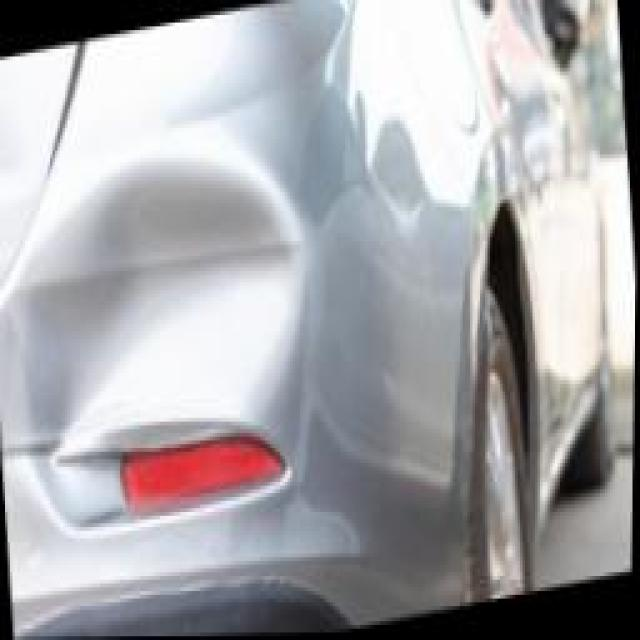Bumper: (0, 105, 406, 594)
